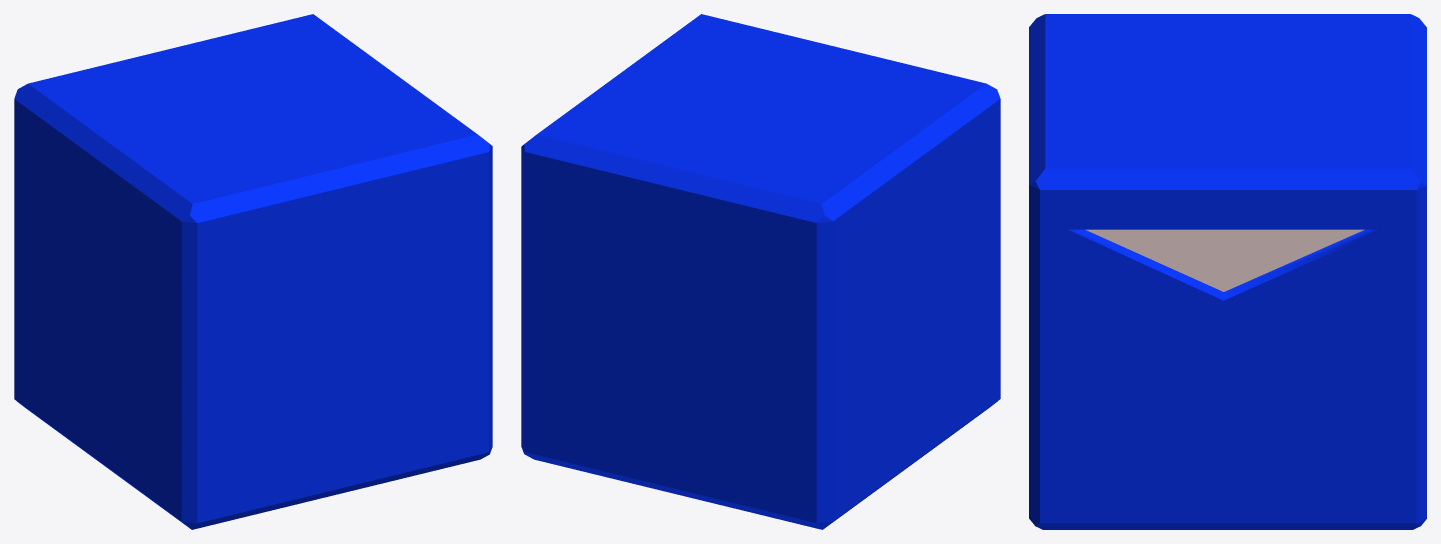
The model's file is RBlock.glb.
3 renders of one model, left to right at view 1: azimuth 30°, elevation 25°; view 2: azimuth 150°, elevation 25°; view 3: azimuth 270°, elevation 25°, orthographic. The views are drawn at different scales.
Visible parts, largest first — view 1: Cube; view 2: Cube; view 3: Cube.
Boxes of the visible parts, left/top/right/bottom form: Cube: left=14, top=14, right=492, bottom=529; Cube: left=521, top=14, right=1000, bottom=529; Cube: left=1029, top=14, right=1426, bottom=529.
Size of the model in its own units: 2 by 2 by 2.
Materials: 1 (1 with a texture image).
